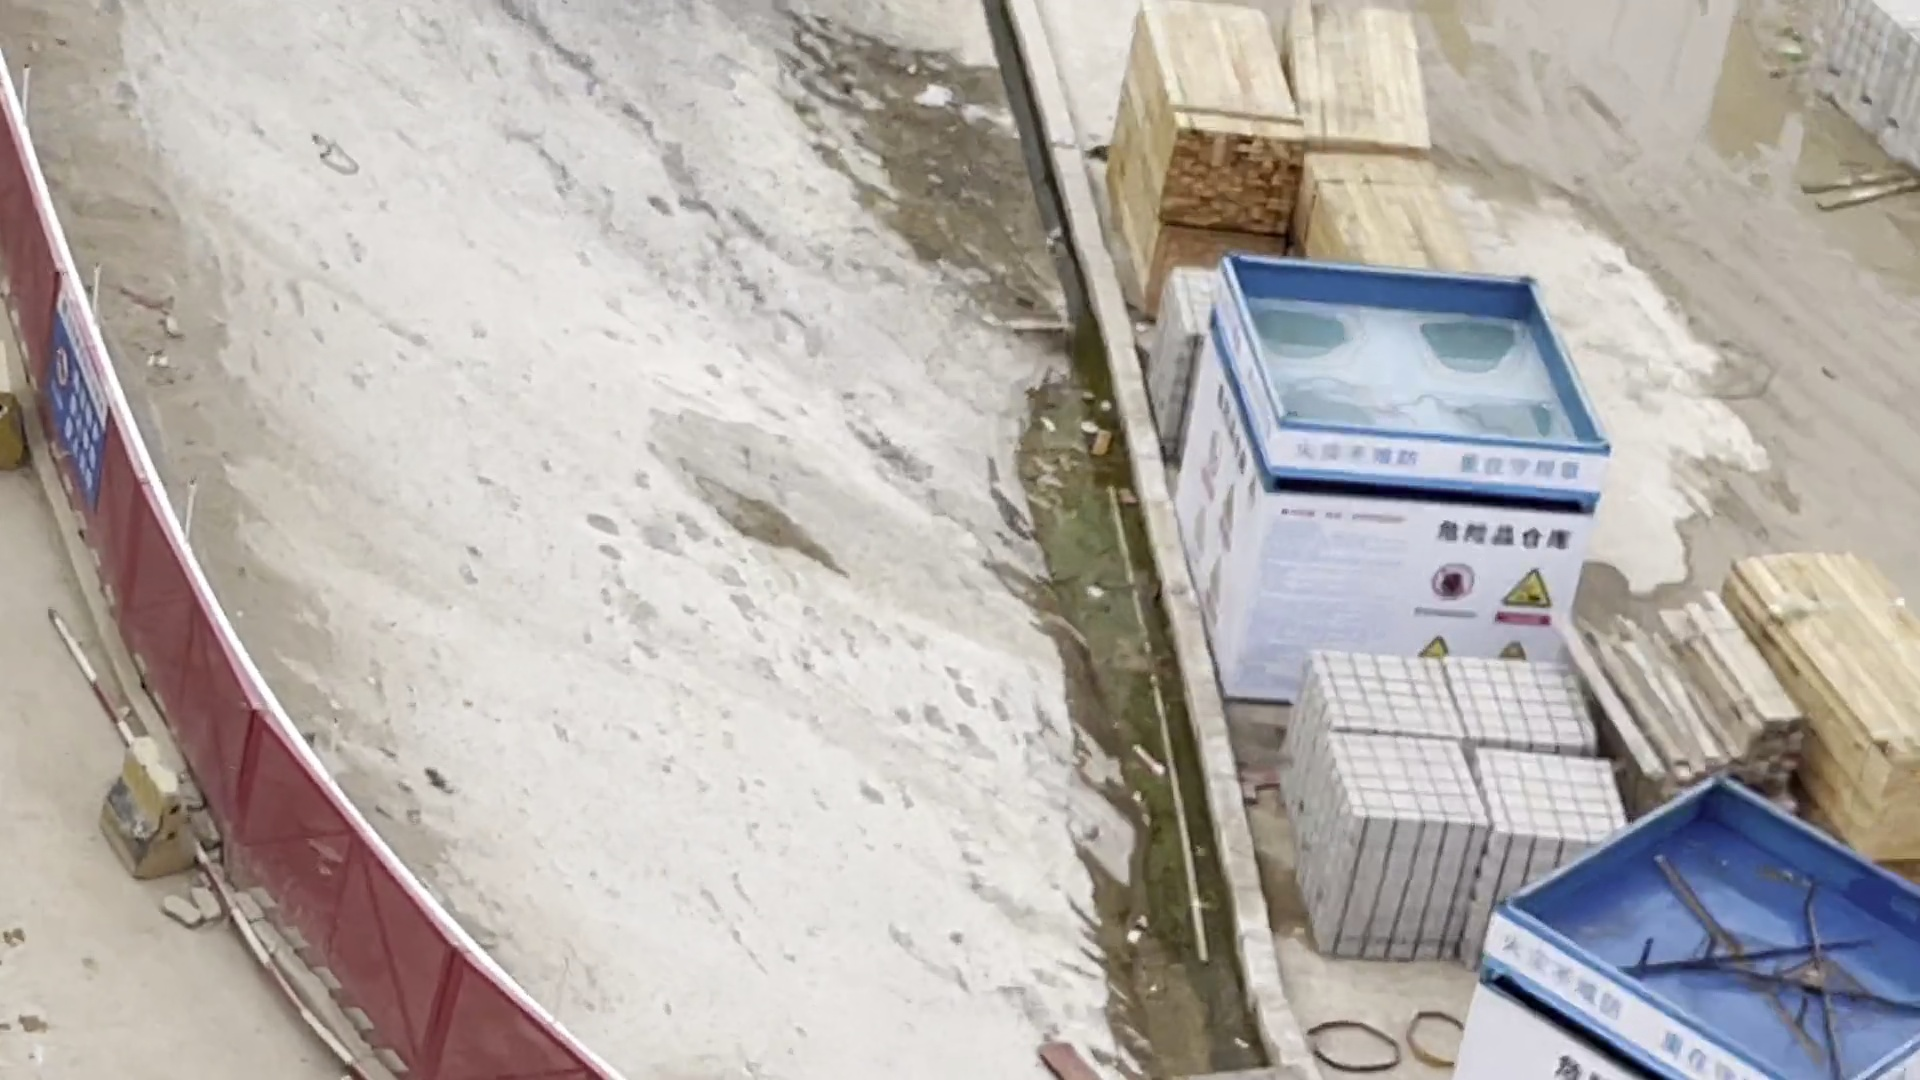brick: (1273, 628, 1648, 971), (1130, 233, 1222, 458), (1811, 1, 1920, 179)
fence: (1, 54, 247, 911), (225, 695, 636, 1080)
slogan: (1261, 427, 1592, 709), (1465, 909, 1775, 1080), (1168, 295, 1273, 684), (29, 281, 165, 505)
wood: (1108, 1, 1522, 268), (1592, 551, 1920, 833)
